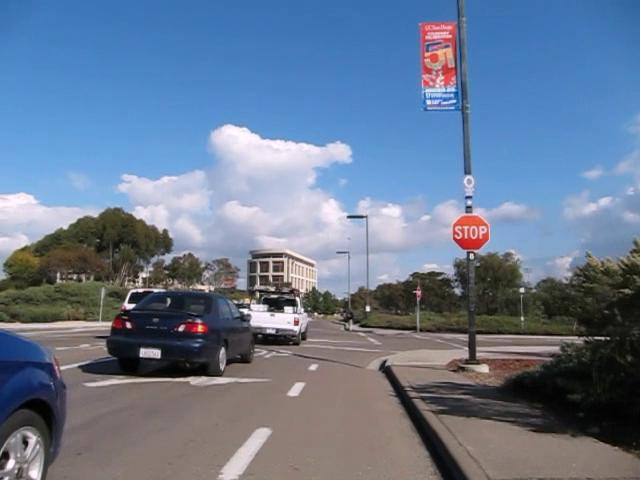stop: (451, 213, 490, 251)
